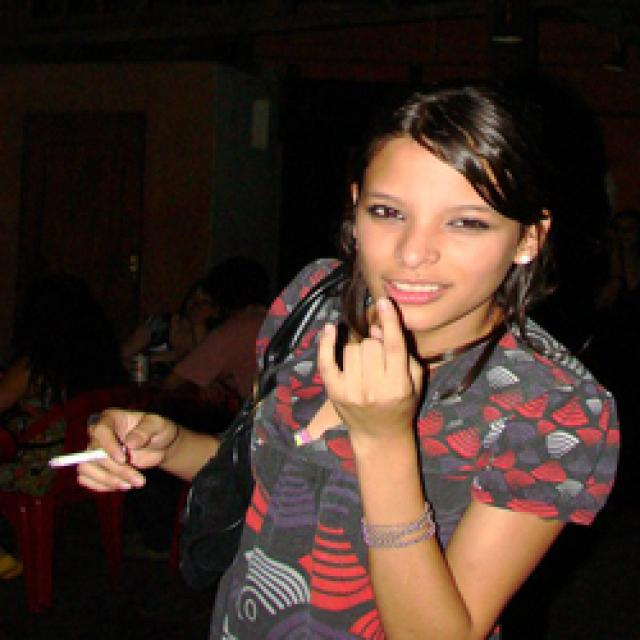Smooking: (42, 433, 109, 471)
